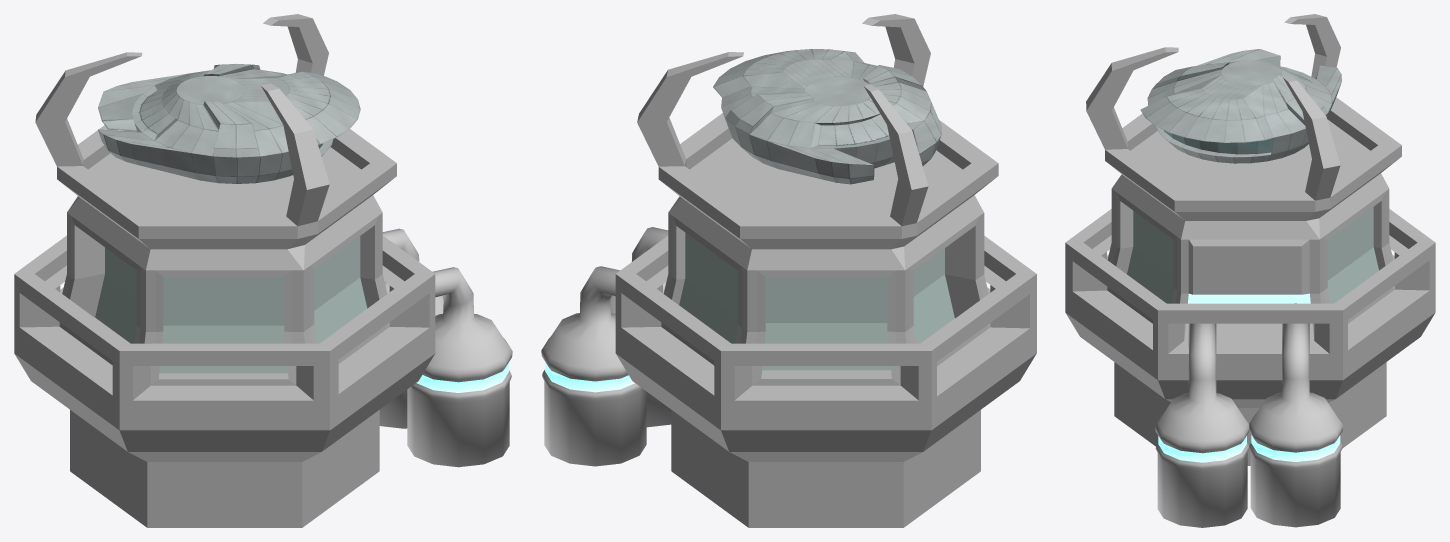
The model's file is baseECO.fbx.
3 views of the same model, side by side, from view 1: azimuth 30°, elevation 25°; view 2: azimuth 150°, elevation 25°; view 3: azimuth 270°, elevation 25° (orthographic). The views are drawn at different scales.
Visible parts, largest first — view 1: Silo, Spaceship; view 2: Silo, Spaceship; view 3: Silo, Spaceship.
Boxes of the visible parts, x1,y1,x2,y2 form: Silo: (14,14,512,527); Spaceship: (98,63,360,183); Silo: (541,14,1036,527); Spaceship: (713,49,942,184); Silo: (1065,14,1435,527); Spaceship: (1140,49,1341,163).
Bounding box in the file's own units: 9.29 × 9.09 × 8.23.
